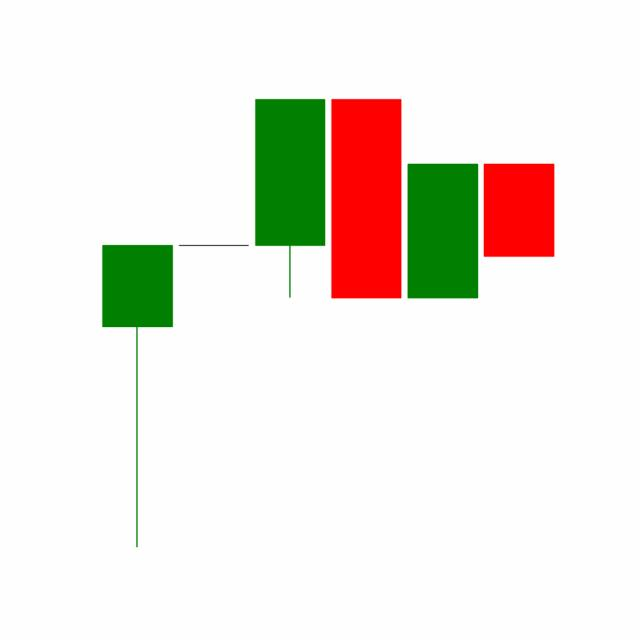Marubozu: (403, 162, 481, 300)
